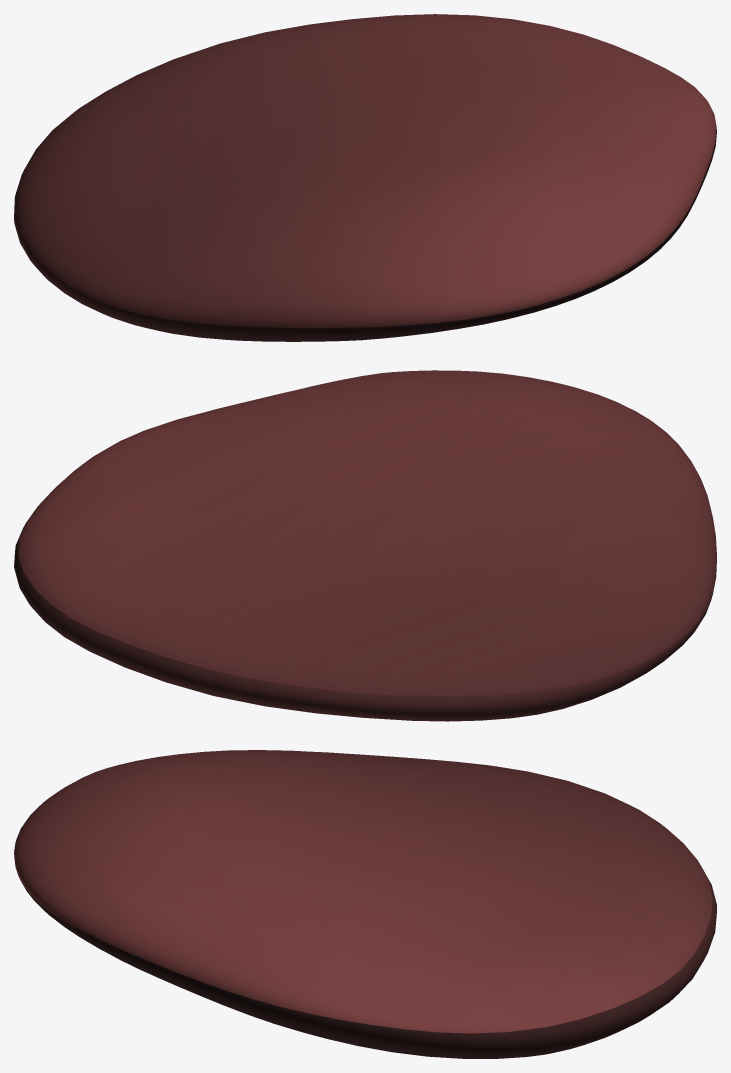
The model's file is common.glb.
3 views of the same model, one above another, from view 1: azimuth 30°, elevation 25°; view 2: azimuth 150°, elevation 25°; view 3: azimuth 270°, elevation 25° (orthographic). The views are drawn at different scales.
Visible parts, largest first — view 1: cb_tong; view 2: cb_tong; view 3: cb_tong.
Boxes of the visible parts, x1=… form: cb_tong: x1=14, y1=14, x2=716, y2=341; cb_tong: x1=14, y1=370, x2=716, y2=721; cb_tong: x1=14, y1=750, x2=716, y2=1058.
Bounding box in the file's own units: 0.0684 × 0.019 × 0.0687.
1 material, 1 textured.
